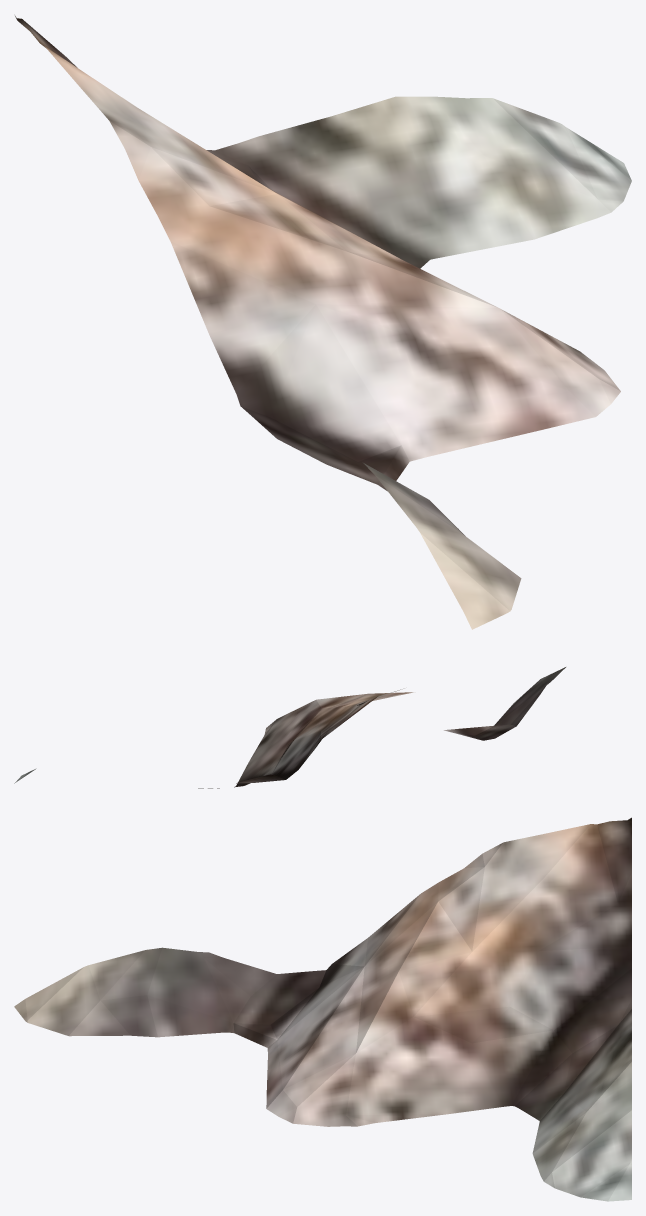
3 renders of one model, top to bottom at view 1: azimuth 30°, elevation 25°; view 2: azimuth 150°, elevation 25°; view 3: azimuth 270°, elevation 25°, orthographic. The views are drawn at different scales.
Size of the model in its own units: 0.2983 by 0.135 by 0.3996.
Materials: 1 (1 with a texture image).
